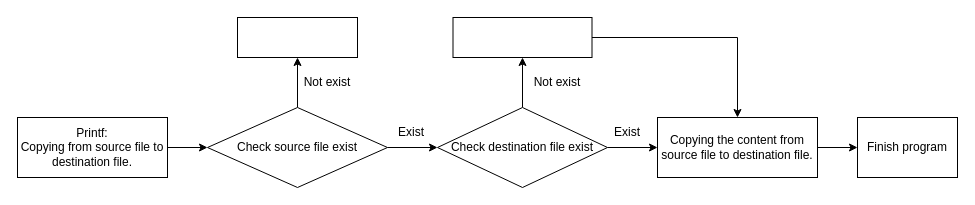
This 975x205 diagram has some shape labels left out. The shapes that lost their labels are listed below. From the top down, each one's box as (x1, y1, x2, y2) in pixels, then its label:
(236, 16, 358, 58): Closing program
(452, 16, 592, 58): Creating destination file
